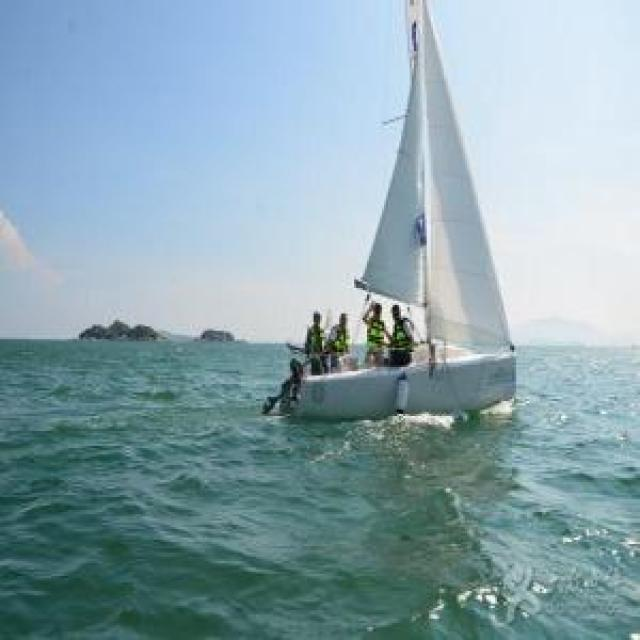sailboat: (258, 0, 521, 425)
